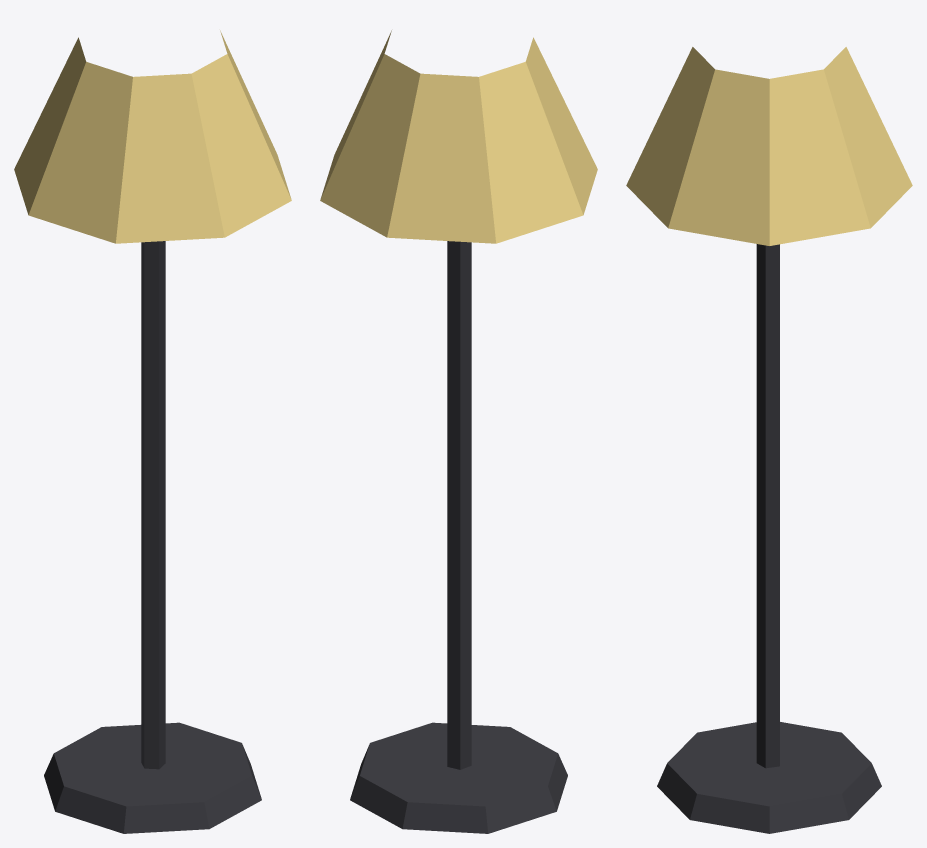
Rendered from falling_lamp.glb.
The picture shows the model from 3 angles, left to right: view 1: azimuth 30°, elevation 25°; view 2: azimuth 150°, elevation 25°; view 3: azimuth 270°, elevation 25°; orthographic projection.
Visible parts, largest first — view 1: lamp_lamp_shade, lamp_lamp_metal; view 2: lamp_lamp_shade, lamp_lamp_metal; view 3: lamp_lamp_shade, lamp_lamp_metal.
Boxes of the visible parts, x1,y1,x2,y2 form: lamp_lamp_shade: [14, 30, 291, 243]; lamp_lamp_metal: [44, 241, 261, 833]; lamp_lamp_shade: [320, 30, 597, 243]; lamp_lamp_metal: [350, 241, 567, 833]; lamp_lamp_shade: [626, 47, 912, 245]; lamp_lamp_metal: [657, 244, 881, 833].
Bounding box in the file's own units: 0.56 × 1.6 × 0.56.
